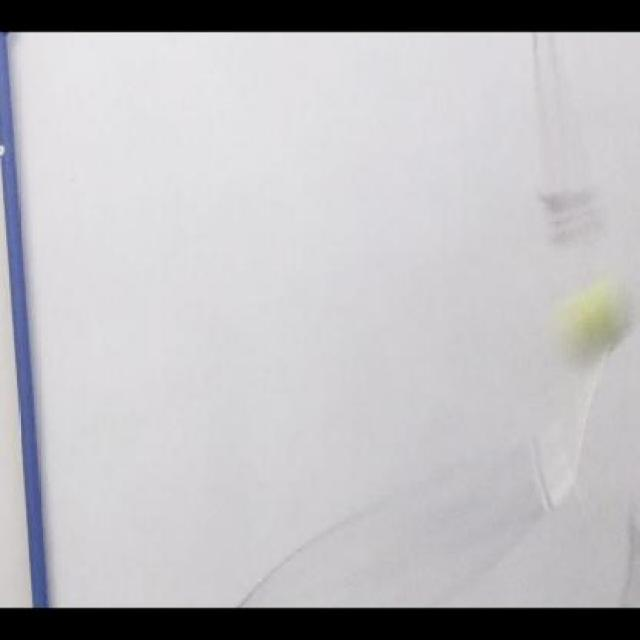baseball: (558, 272, 637, 358)
